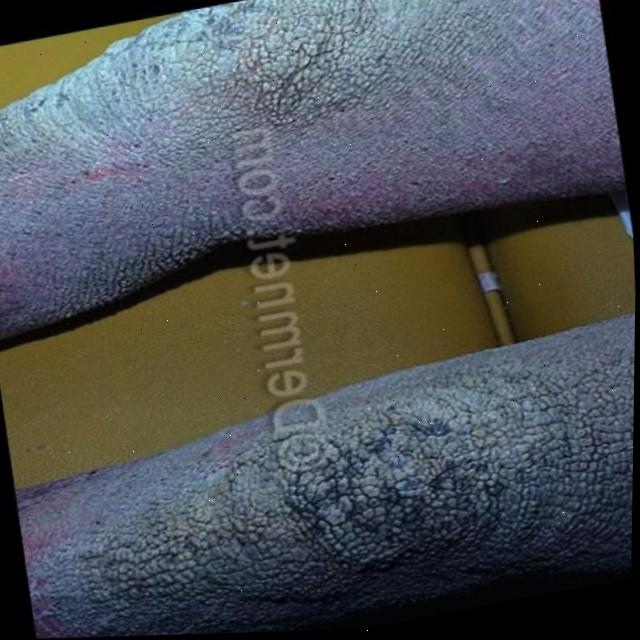Eczema: (76, 365, 612, 635), (181, 0, 475, 138)
